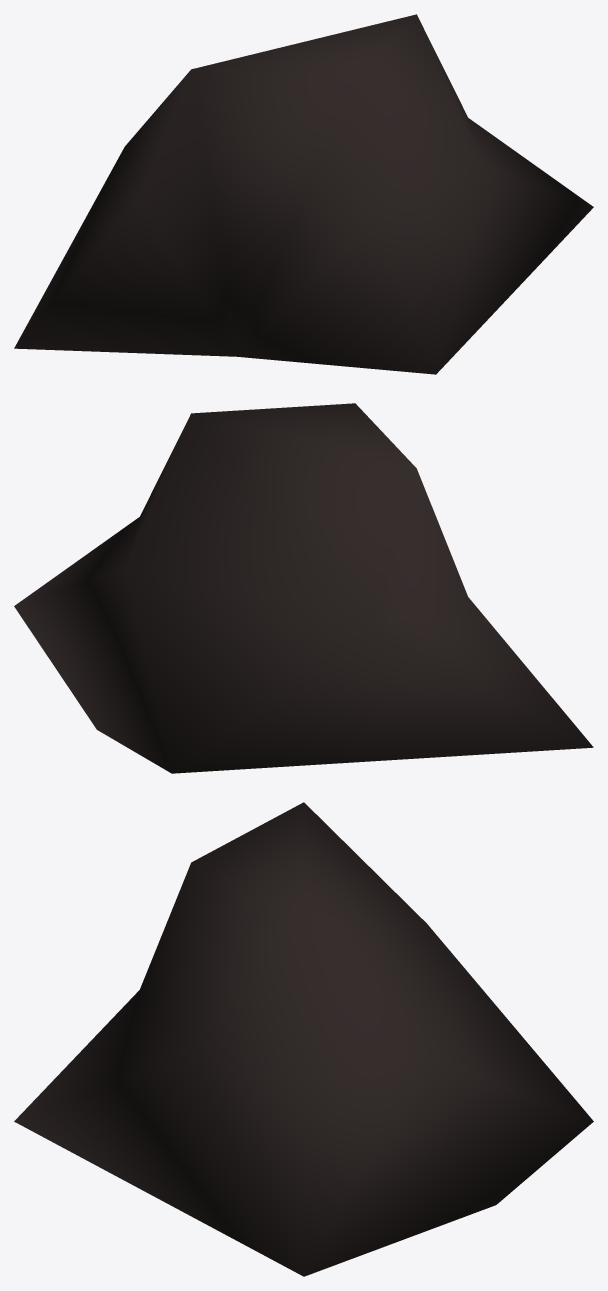
Rendered from Rock 09.FBX.
3 views of the same model, one above another, from view 1: azimuth 30°, elevation 25°; view 2: azimuth 150°, elevation 25°; view 3: azimuth 270°, elevation 25° (orthographic). The views are drawn at different scales.
Visible parts, largest first — view 1: Box001; view 2: Box001; view 3: Box001.
Boxes of the visible parts, left/top/right/bottom form: Box001: left=14, top=14, right=593, bottom=374; Box001: left=14, top=403, right=593, bottom=773; Box001: left=14, top=802, right=593, bottom=1276.
Bounding box in the file's own units: 29.18 × 12.21 × 23.03.
